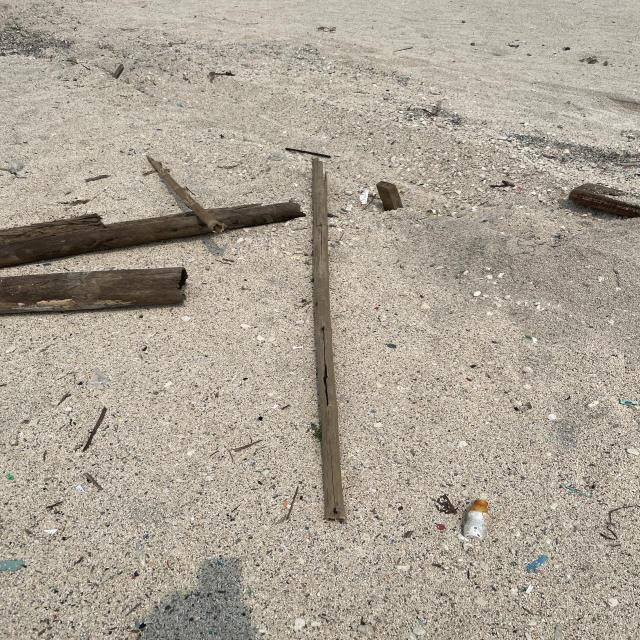wood_waste: (306, 161, 346, 529), (1, 269, 183, 318), (572, 186, 640, 225)
